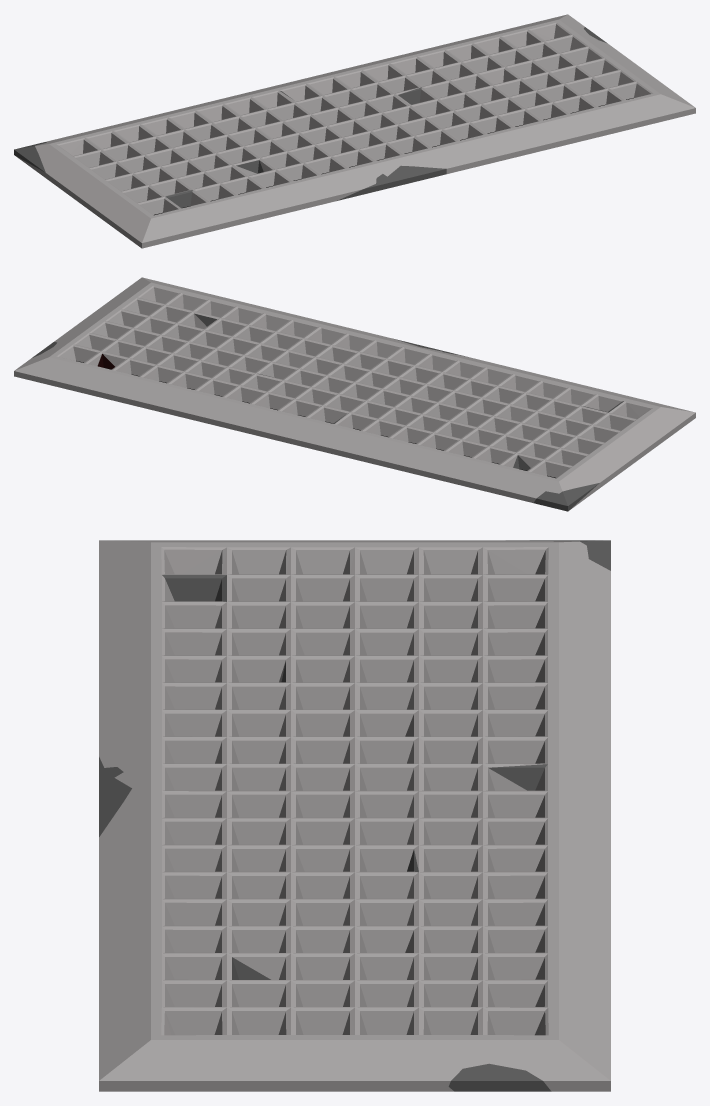
The model's file is LGESpikeMetalGrate.fbx.
3 renders of one model, top to bottom at view 1: azimuth 30°, elevation 25°; view 2: azimuth 150°, elevation 25°; view 3: azimuth 270°, elevation 25°, orthographic. The views are drawn at different scales.
Parts seen in each view (by area): view 1: LGESpikeMetalGrate; view 2: LGESpikeMetalGrate; view 3: LGESpikeMetalGrate.
Part boxes in pixels (bbox=[...]): LGESpikeMetalGrate: bbox=[14, 14, 695, 248]; LGESpikeMetalGrate: bbox=[14, 277, 695, 511]; LGESpikeMetalGrate: bbox=[99, 540, 610, 1091].
Bounding box in the file's own units: 297 × 7.75 × 119.
